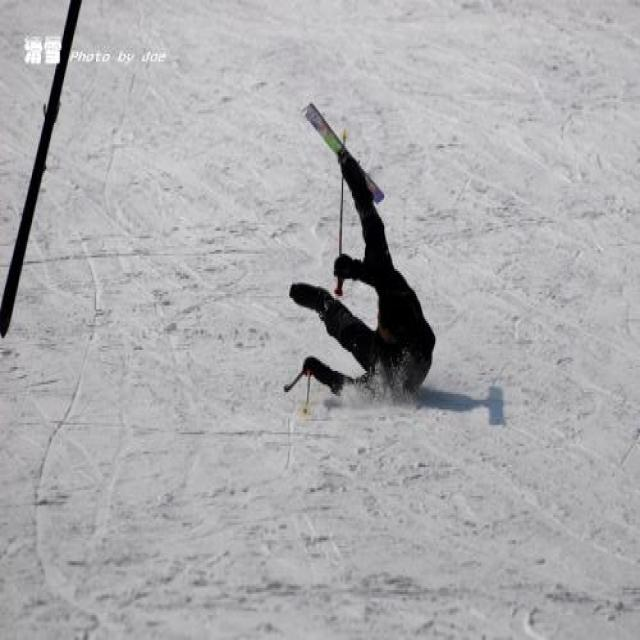down: (284, 140, 440, 406)
